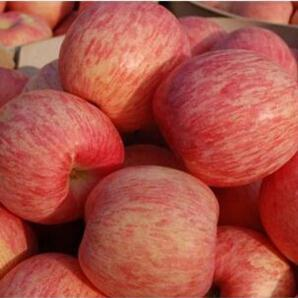apple: (59, 3, 226, 138), (158, 51, 295, 191), (76, 164, 219, 295), (3, 89, 123, 225), (210, 223, 296, 295), (1, 251, 107, 296)
